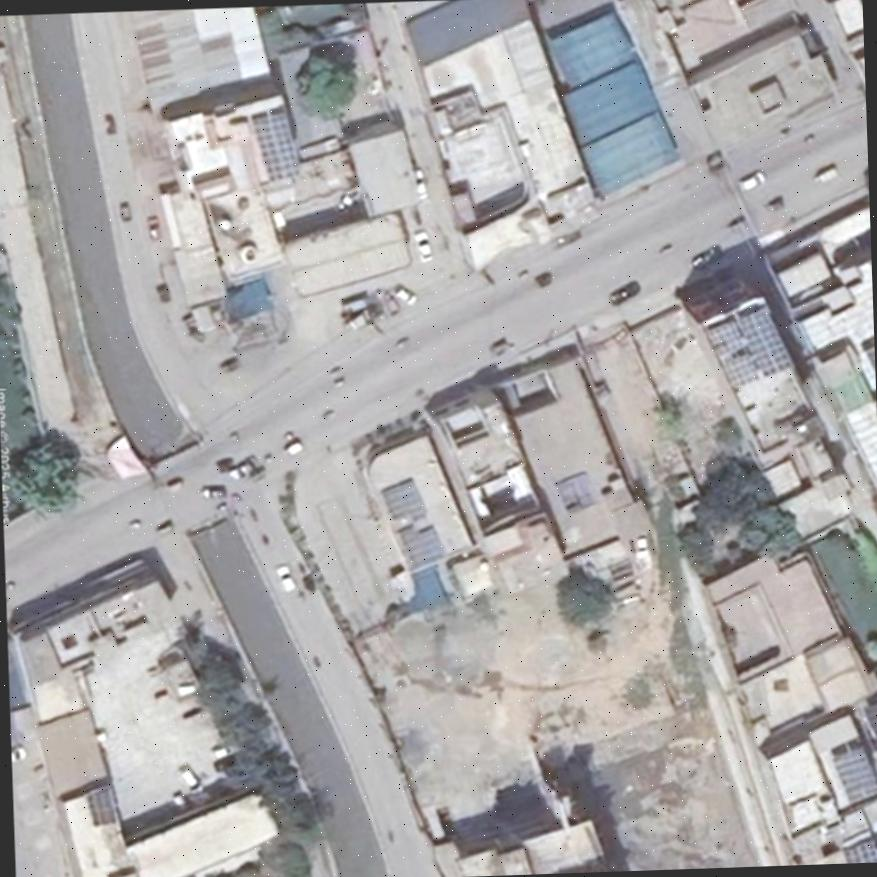Solarpanel: (704, 309, 791, 386), (251, 113, 301, 179), (831, 749, 877, 801), (397, 522, 444, 568), (382, 479, 425, 523), (90, 785, 118, 825), (844, 838, 877, 862), (864, 704, 877, 742)
